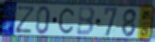0: (34, 5, 52, 36)
7: (103, 6, 118, 38)
8: (121, 8, 137, 38)
B: (76, 6, 97, 37)
C: (58, 7, 75, 35)
Z: (14, 5, 37, 35)
